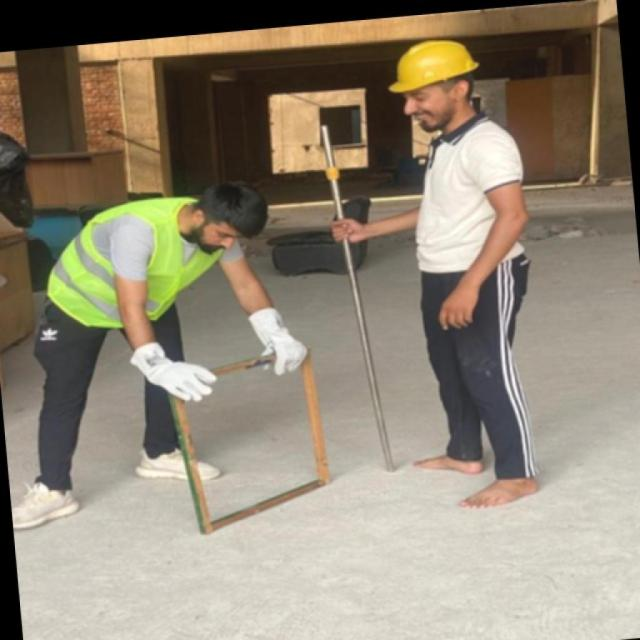Gloves-Detection: (123, 344, 205, 404), (239, 302, 310, 371)
